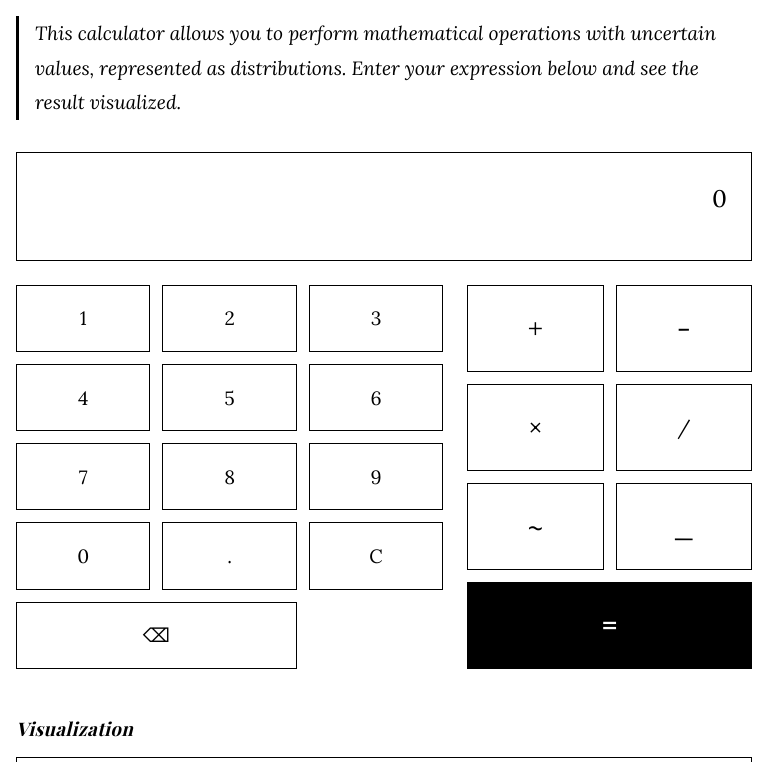
Test: Calculator.vue Integration › should handle operator buttons
# Click number and operator buttons
Click the button "1" at [83, 318], box x1=16 y1=285 x2=150 y2=352
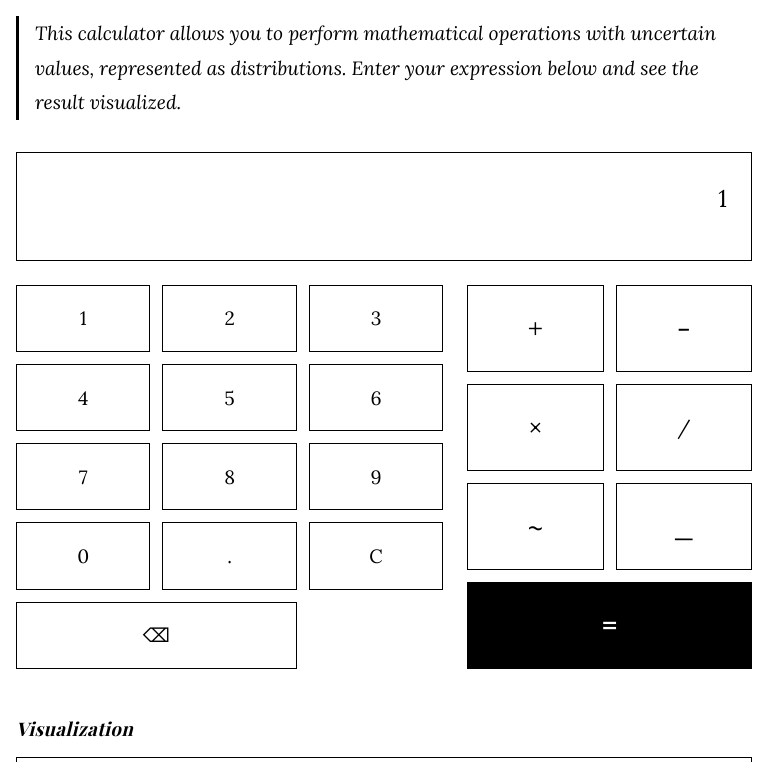
Click the button "+" at [535, 328], box x1=467 y1=285 x2=604 y2=372
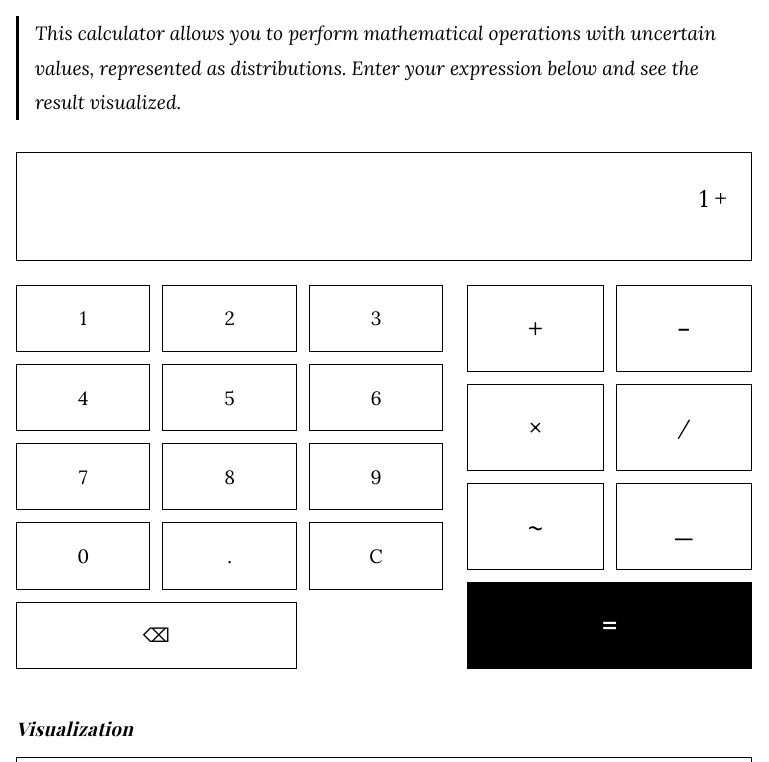
Click the button "2" at [230, 318], box x1=162 y1=285 x2=297 y2=352
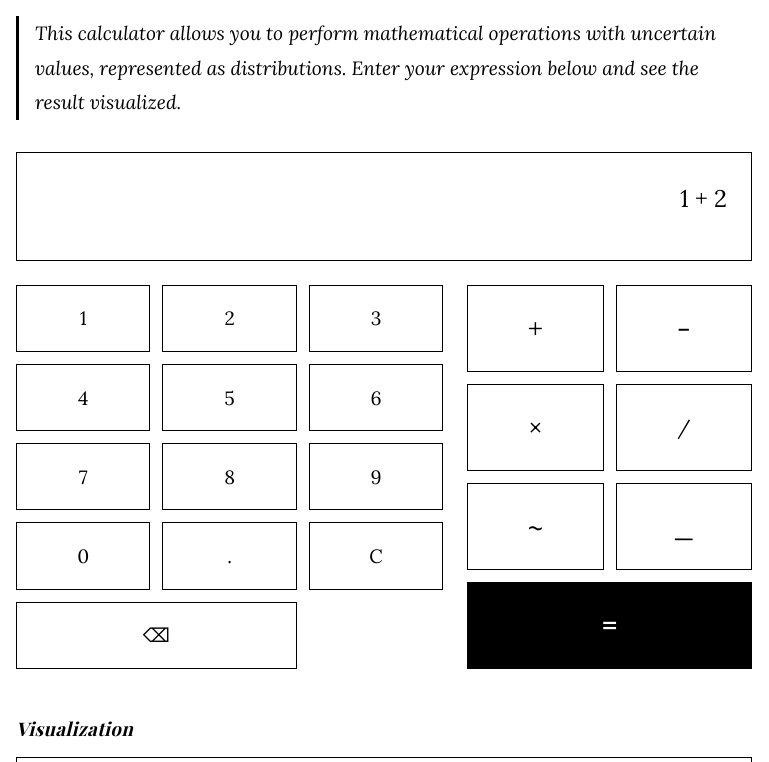
expect the text with class "input-display" reads "1 + 2": met, box x1=680 y1=183 x2=727 y2=214
